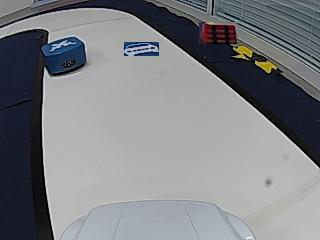spy: (51, 41, 75, 51)
